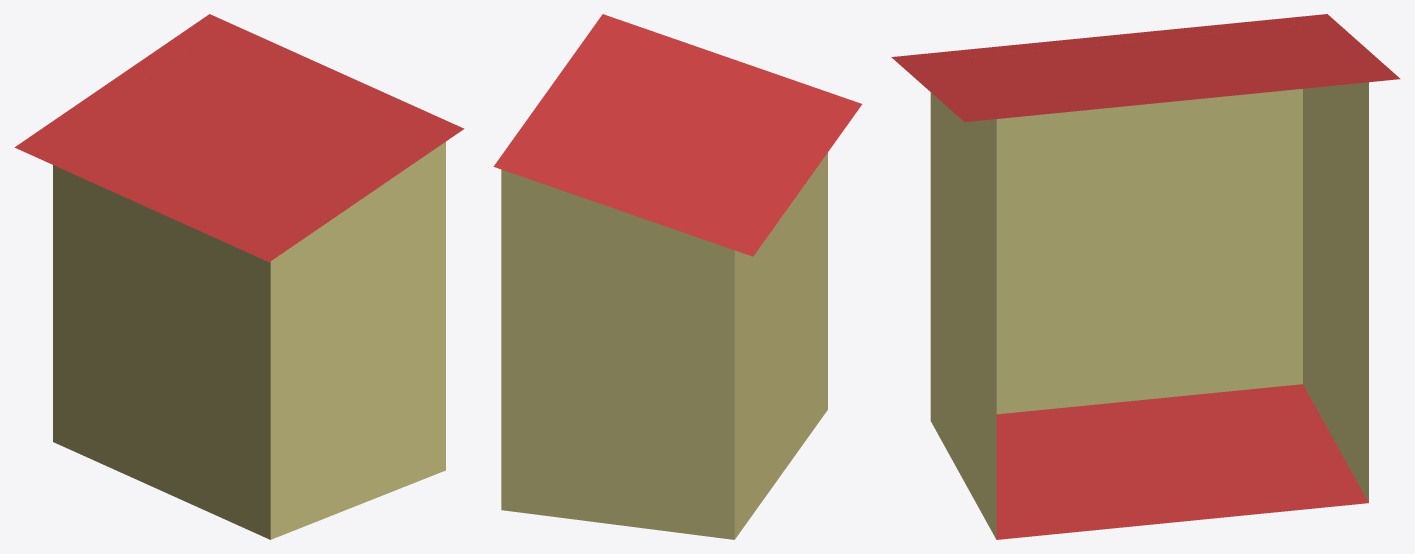
3 renders of one model, left to right at view 1: azimuth 30°, elevation 25°; view 2: azimuth 150°, elevation 25°; view 3: azimuth 270°, elevation 25°, orthographic. The views are drawn at different scales.
Size of the model in its own units: 6.33 by 7.76 by 7.07.
